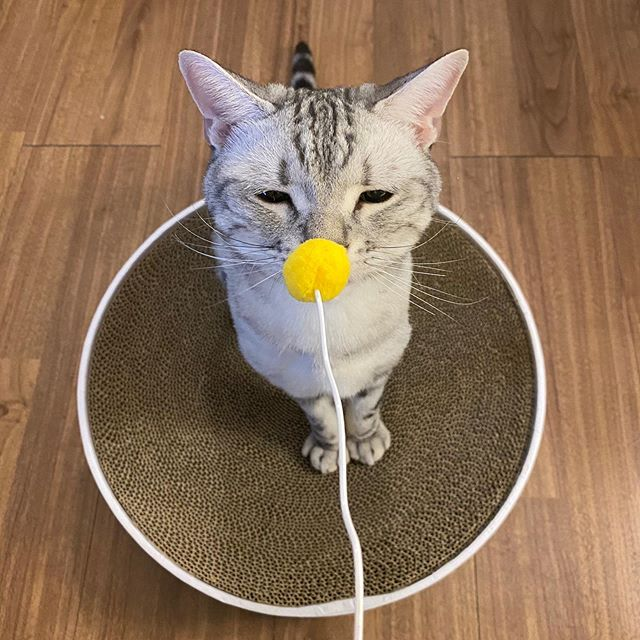cat: (176, 41, 473, 302)
